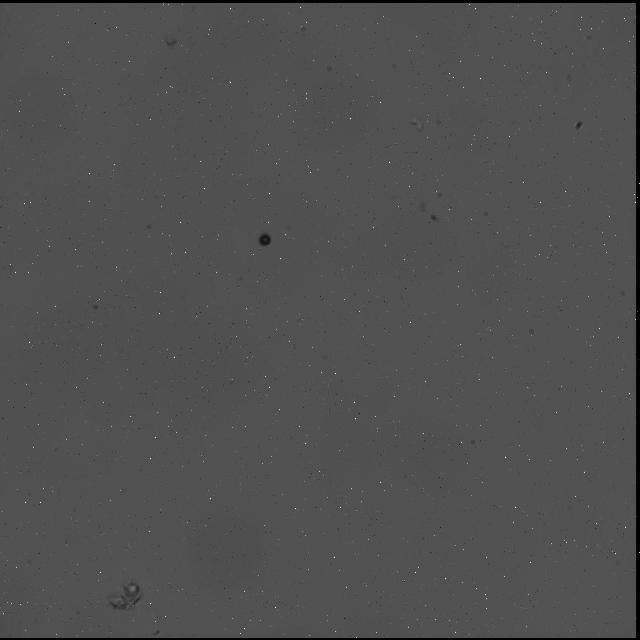microbeads: (257, 232, 273, 248)
